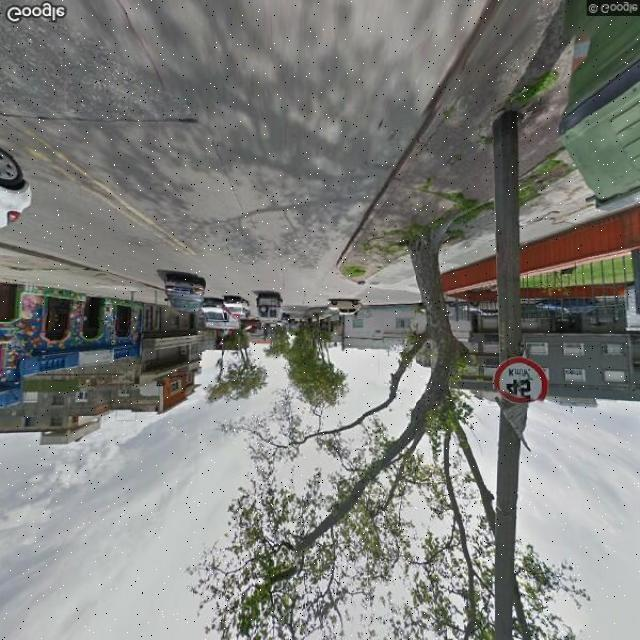garbage container: (549, 1, 640, 217)
